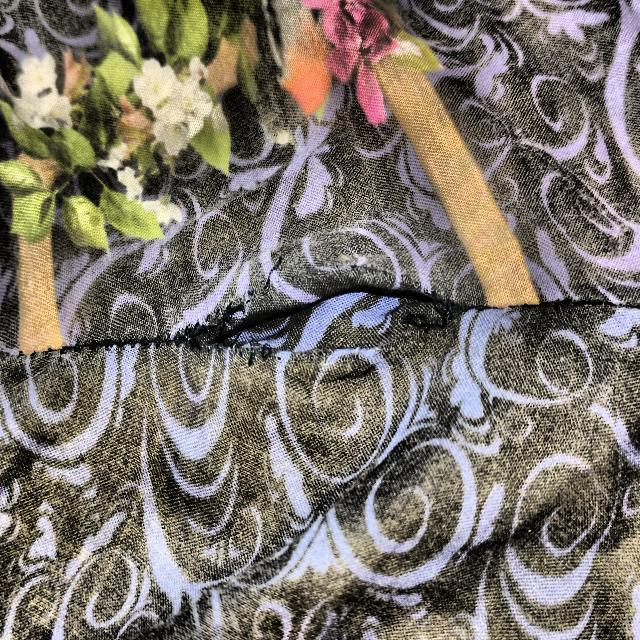seam: (164, 256, 487, 415)
